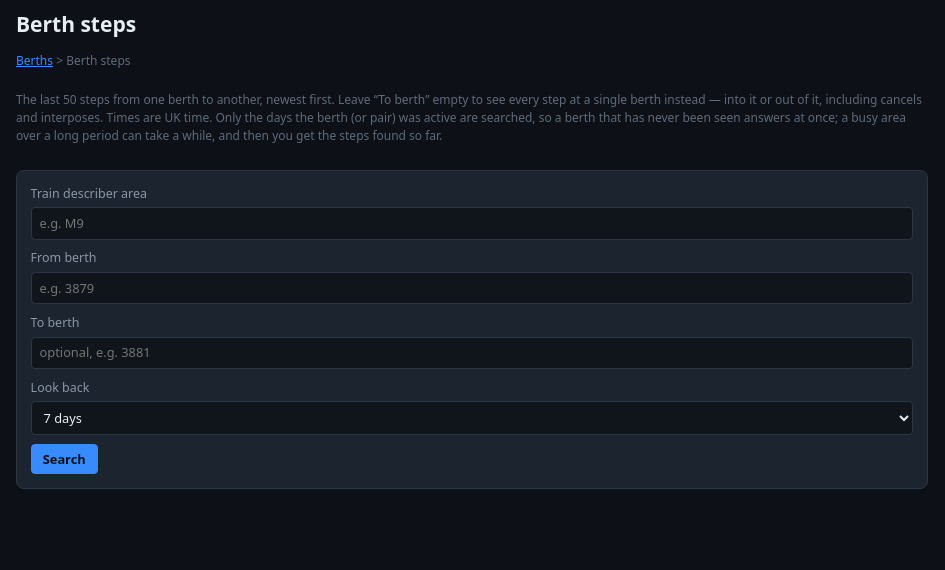
BerthStepsPage (owner request 2026-09-22) › says so when the pair has no steps, and shows an API error
Type "M9" into the field labelled "Train describer area" at (472, 224), box [31,207,913,240]
Type "ZZZZ" into the field labelled "From berth" at (472, 288), box [31,272,913,304]
Type "YYYY" into the field labelled "To berth" at (472, 353), box [31,337,913,369]
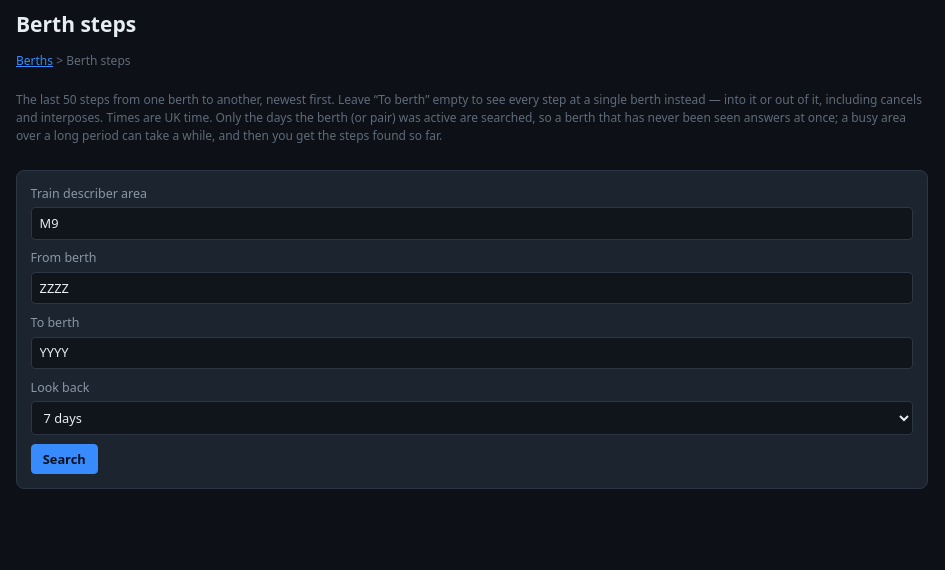
Click the button "Search" at (64, 459), box [31,444,98,474]
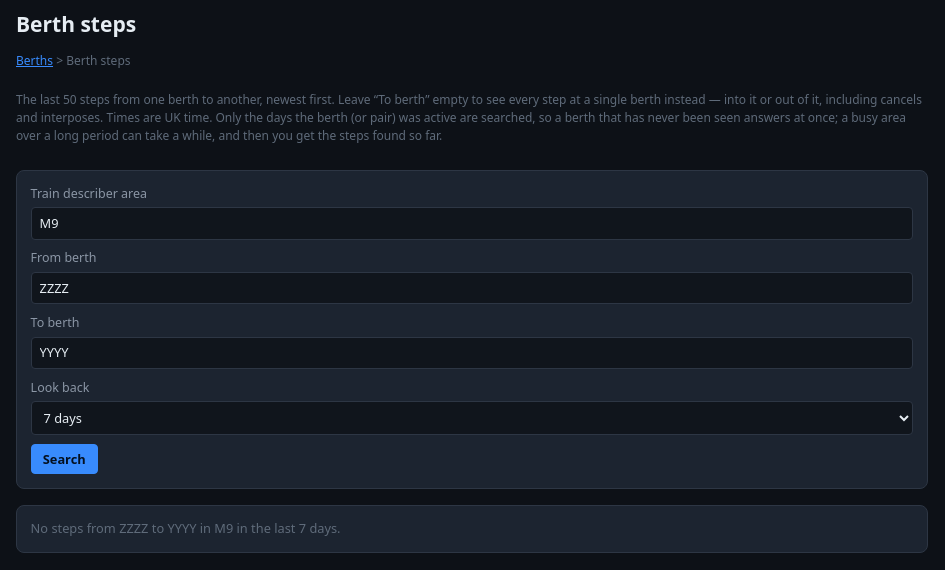
Check: the text "No steps from ZZZZ to YYYY in M9 in the last 7 days." is shown, box [16,505,928,553]
Replace the text in the field labelled "Train describer area" with "M99" at (472, 224), box [31,207,913,240]
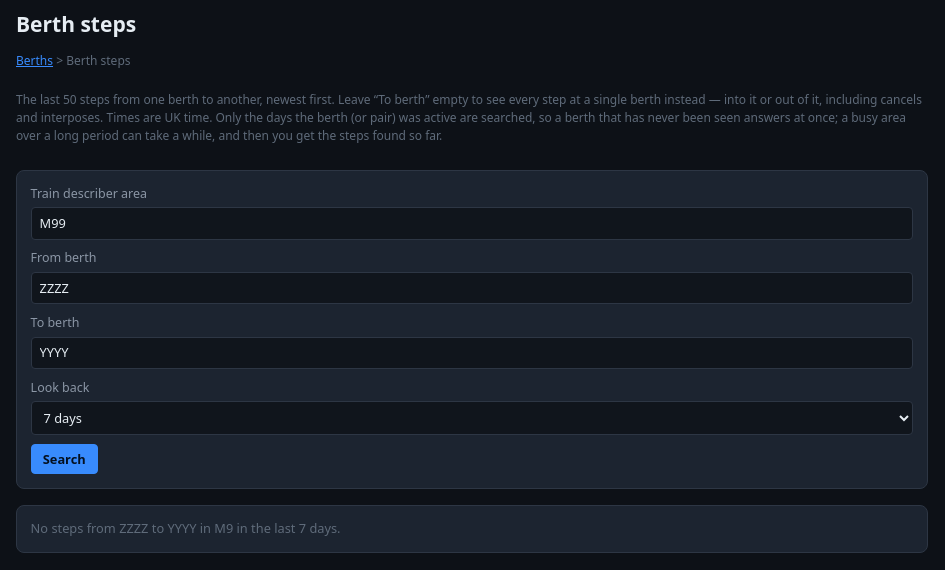
Replace the text in the field labelled "From berth" with "A" at (472, 288), box [31,272,913,304]
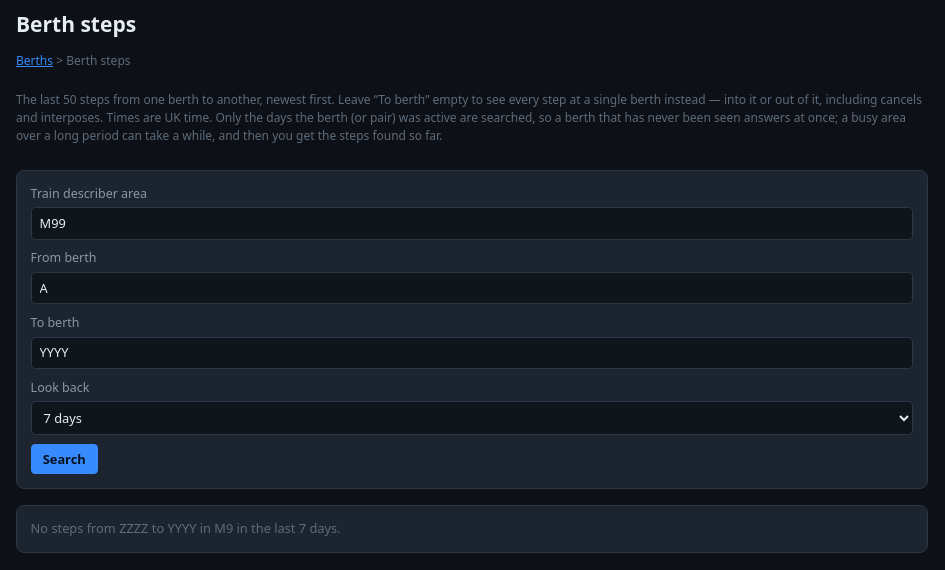
Replace the text in the field labelled "To berth" with "B" at (472, 353), box [31,337,913,369]
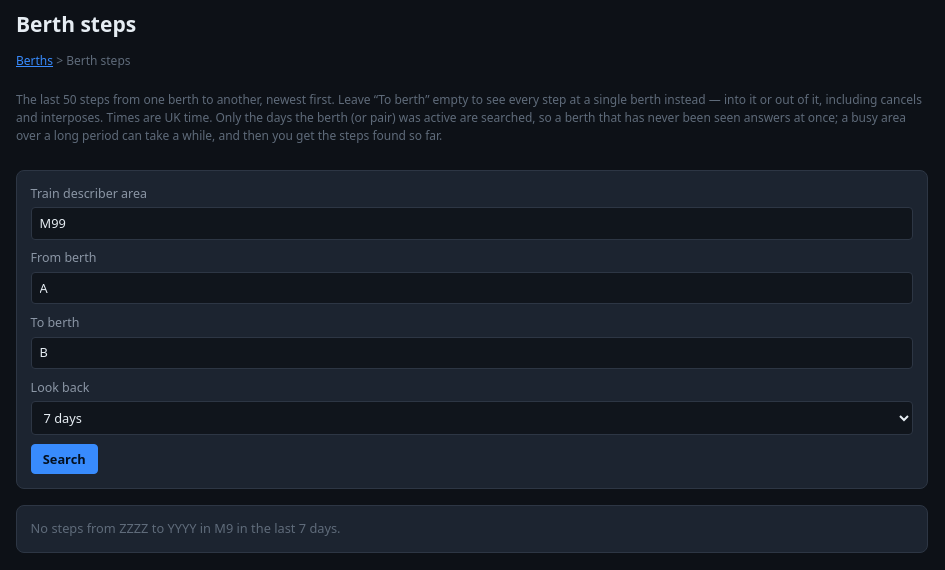
Click the button "Search" at (64, 459), box [31,444,98,474]
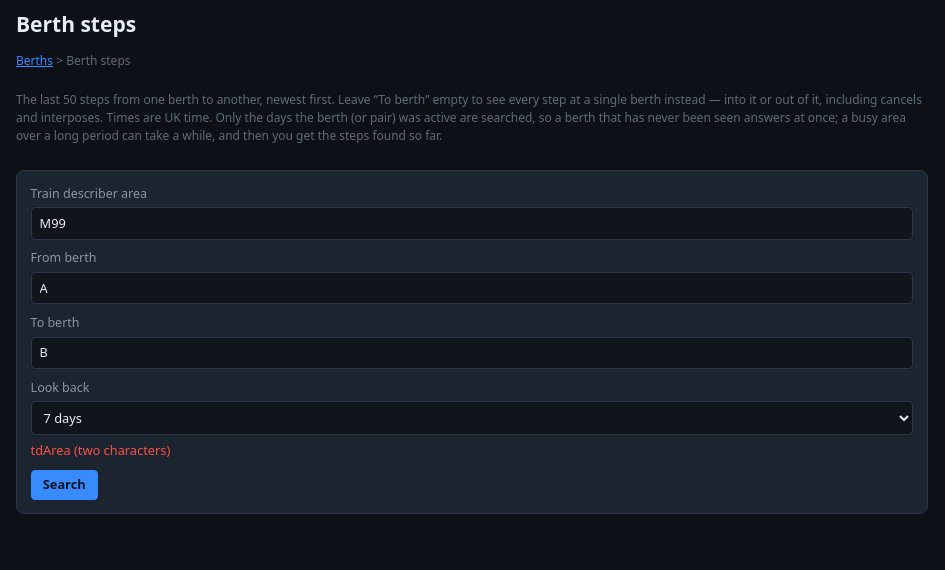
Check: the message reads "tdArea (two characters)", box [31,441,170,459]
